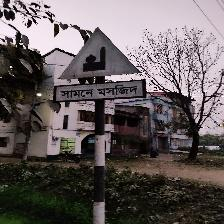Mosque in front: (52, 28, 146, 107)
